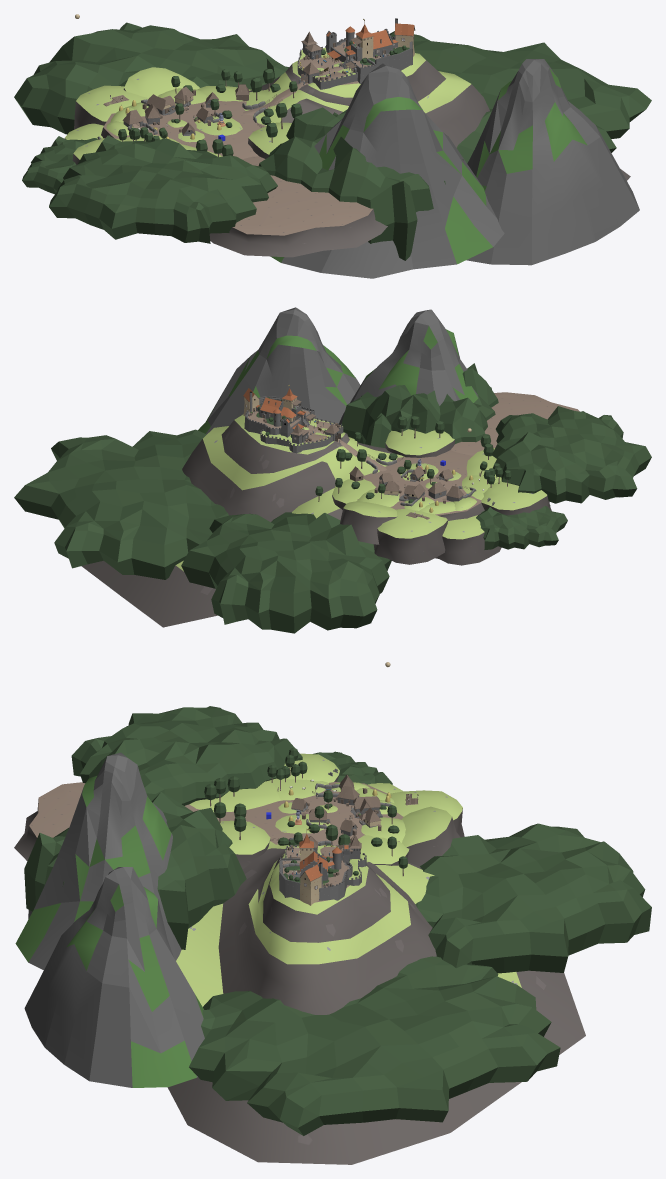
File: medieval_castle_with_village.glb
3 views of the same model, one above another, from view 1: azimuth 30°, elevation 25°; view 2: azimuth 150°, elevation 25°; view 3: azimuth 270°, elevation 25° (orthographic). The views are drawn at different scales.
Visible parts, largest first — view 1: Object_16, Object_19, Object_18, Object_12, Object_13, Object_21, Object_17, Object_29, Object_25, Object_28, Object_30, Object_9 (+2 smaller); view 2: Object_16, Object_12, Object_19, Object_18, Object_13, Object_21, Object_29, Object_17, Object_25, Object_28, Object_30, Object_9; view 3: Object_16, Object_12, Object_19, Object_18, Object_21, Object_13, Object_17, Object_29, Object_25, Object_28, Object_8.
Part boxes in pixels (box(x1,y1,x2,y2)): Object_16: box(14, 22, 651, 260); Object_19: box(97, 28, 639, 278); Object_18: box(65, 47, 470, 159); Object_12: box(64, 57, 630, 257); Object_13: box(103, 41, 398, 235); Object_21: box(194, 39, 587, 264); Object_17: box(118, 41, 406, 156); Object_29: box(147, 19, 412, 114); Object_25: box(123, 31, 322, 134); Object_28: box(123, 43, 386, 137); Object_30: box(326, 23, 414, 58); Object_9: box(103, 26, 415, 156); Object_16: box(14, 363, 651, 633); Object_12: box(81, 420, 551, 627); Object_19: box(206, 307, 494, 505); Object_18: box(175, 414, 546, 571); Object_13: box(247, 392, 579, 515); Object_21: box(198, 326, 478, 479); Object_29: box(244, 392, 424, 500); Object_17: box(257, 397, 511, 495); Object_25: box(291, 423, 463, 500); Object_28: box(262, 405, 476, 506); Object_30: box(243, 388, 305, 429); Object_9: box(243, 394, 507, 519); Object_16: box(24, 706, 651, 1135); Object_12: box(14, 772, 585, 1164); Object_19: box(24, 752, 382, 1087); Object_18: box(176, 753, 521, 1006); Object_21: box(15, 776, 360, 1087); Object_13: box(29, 782, 403, 902); Object_17: box(204, 748, 407, 880); Object_29: box(279, 803, 379, 900); Object_25: box(291, 775, 381, 851); Object_28: box(283, 783, 391, 879); Object_8: box(300, 803, 380, 905).
Bounding box in the file's own units: 301 × 107 × 246.
37 materials, 35 textured.
